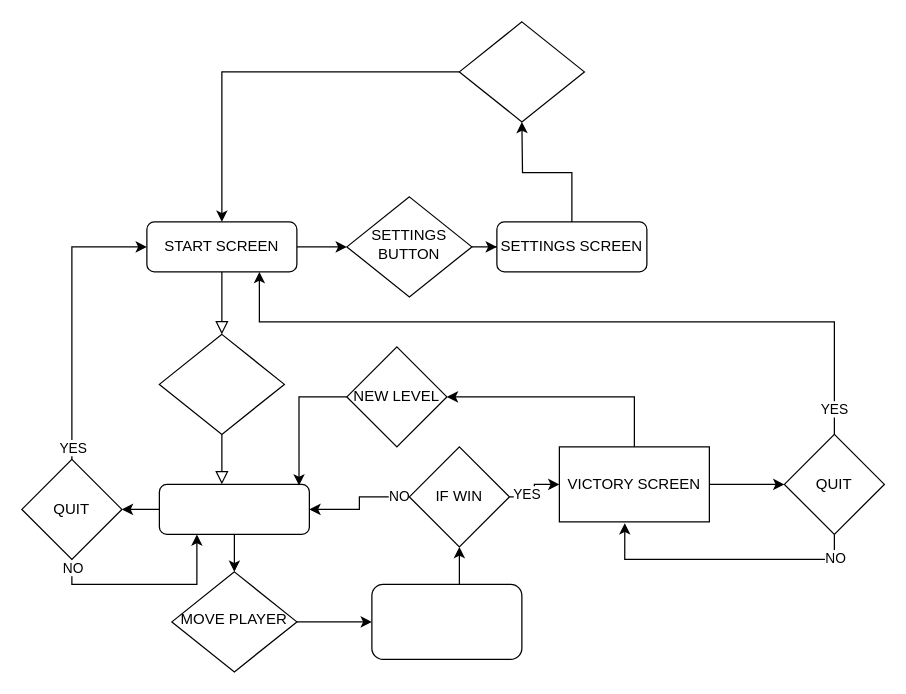
The diagram is 906 pixels wide and 694 high, and some of its shapes have lost their labels. The centre of each missing label's shape, as x and y in pixels:
BACK: (521,71)
GAME VIEW: (233,508)
MOVE PLAYER POS: (446,621)
START: (221,383)
